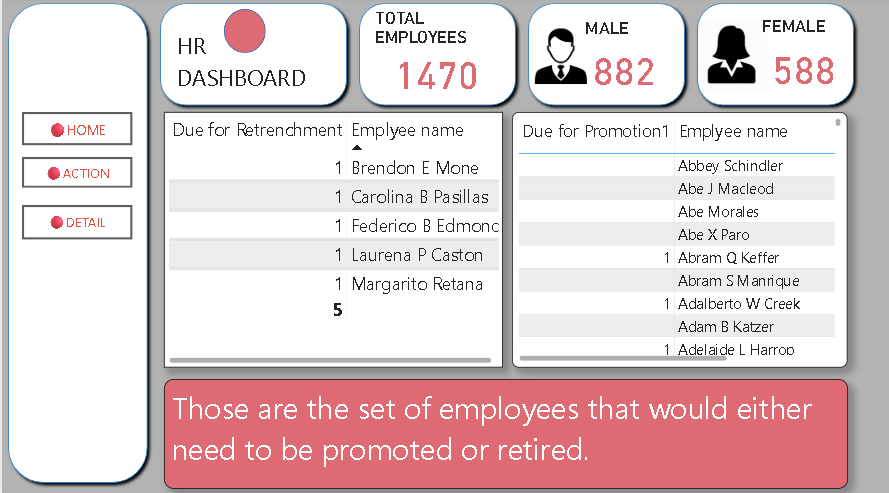

The page's visual inventory and layout, read from the dashboard file:
{"tool":"powerbi","page":{"name":"Page 3","canvas":[1280,720],"ordinal":2},"visuals":[{"type":"shape","box":[218.3,0,286.7,165],"z":0},{"type":"shape","box":[505,0,243.3,165],"z":1000},{"type":"shape","box":[748.3,0,243.3,165],"z":2000},{"type":"shape","box":[991.7,0,243.3,165],"z":3000},{"type":"shape","box":[0,0,218.3,708.3],"z":4000},{"type":"tableEx","fields":{"Values":["HR Analytics Data.Due for Retrenchment","HR employee data.Emplyee name"]},"box":[233.3,165,488.3,368.3],"z":5000},{"type":"tableEx","fields":{"Values":["HR Analytics Data.Due for Promotion1","HR employee data.Emplyee name"]},"box":[735,165,483.3,368.3],"z":6000},{"type":"textbox","box":[233.3,550,985,158.3],"z":7000},{"type":"card","title":"TOTAL EMPLOYEES","fields":{"Values":["HR Analytics Data.Total Emp"]},"box":[533.3,16.7,188.3,125],"z":8000},{"type":"card","title":"MALE","fields":{"Values":["HR Analytics Data.MALE"]},"box":[835,31.7,121.7,110],"z":9000},{"type":"card","title":"FEMALE","fields":{"Values":["HR Analytics Data.FEMALE"]},"box":[1090,28.3,128.3,113.3],"z":10000},{"type":"image","box":[760,40,88.3,90],"z":11000},{"type":"image","box":[991.7,16.7,116.7,131.7],"z":12000},{"type":"textbox","box":[248.3,41.7,215,100],"z":13000},{"type":"shape","box":[320,16.7,60,63.3],"z":14000},{"type":"actionButton","box":[29.1,165.8,158.9,47.9],"z":15000},{"type":"actionButton","box":[29.1,230.7,158.9,44.4],"z":17000},{"type":"actionButton","box":[29.1,299.1,158.9,49.6],"z":18000}]}

Visuals, with their boxes in screenshot pixels (x1, y1, x2, y2), scaled from the page's 1280x720 canvas onto the 889x493 screenshot:
shape: box=[152, 0, 351, 113]
shape: box=[351, 0, 520, 113]
shape: box=[520, 0, 689, 113]
shape: box=[689, 0, 858, 113]
shape: box=[0, 0, 152, 485]
tableEx - HR Analytics Data.Due for Retrenchment x HR employee data.Emplyee name: box=[162, 113, 501, 365]
tableEx - HR Analytics Data.Due for Promotion1 x HR employee data.Emplyee name: box=[510, 113, 846, 365]
textbox: box=[162, 377, 846, 485]
"TOTAL EMPLOYEES" card: box=[370, 11, 501, 97]
"MALE" card: box=[580, 22, 664, 97]
"FEMALE" card: box=[757, 19, 846, 97]
image: box=[528, 27, 589, 89]
image: box=[689, 11, 770, 102]
textbox: box=[172, 29, 322, 97]
shape: box=[222, 11, 264, 55]
actionButton: box=[20, 114, 131, 146]
actionButton: box=[20, 158, 131, 188]
actionButton: box=[20, 205, 131, 239]
